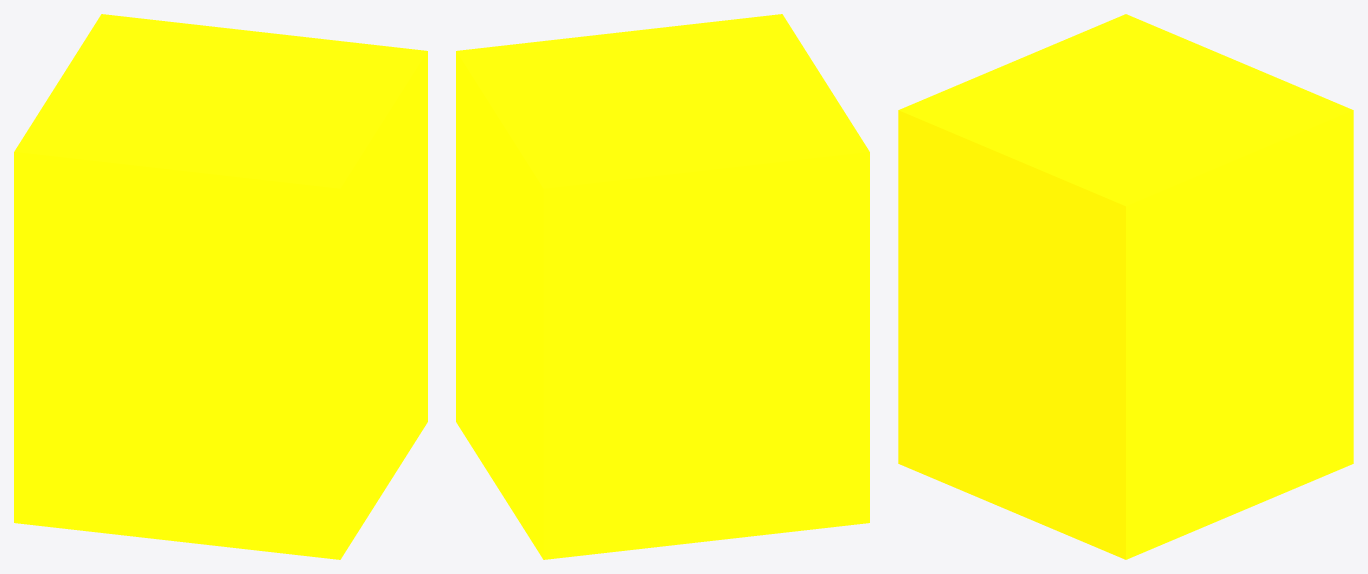
Rendered from tower_splash_lod2.glb.
The picture shows the model from 3 angles, left to right: view 1: azimuth 30°, elevation 25°; view 2: azimuth 150°, elevation 25°; view 3: azimuth 270°, elevation 25°; orthographic projection. The views are drawn at different scales.
Parts seen in each view (by area): view 1: tower_splash_lod2; view 2: tower_splash_lod2; view 3: tower_splash_lod2.
Part boxes in pixels (<box>): tower_splash_lod2: <box>14,14,427,559</box>; tower_splash_lod2: <box>456,14,869,559</box>; tower_splash_lod2: <box>898,14,1353,559</box>.
Size of the model in its own units: 0.7 by 0.6 by 0.7.
